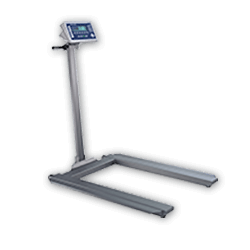Industrial Scale: (47, 21, 220, 218)
